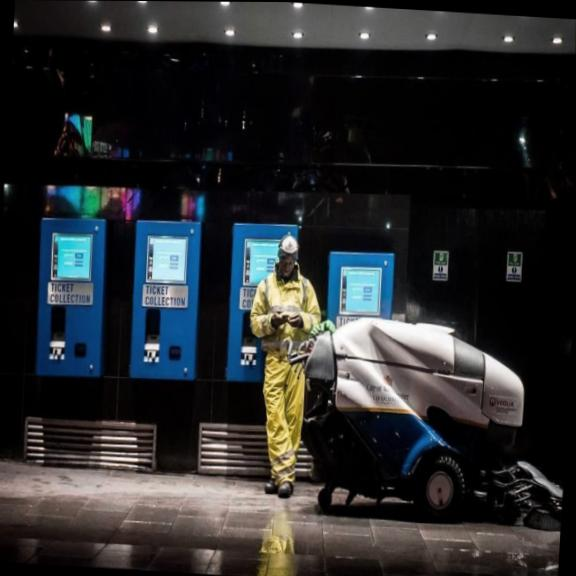safety_vest: (246, 275, 323, 369)
